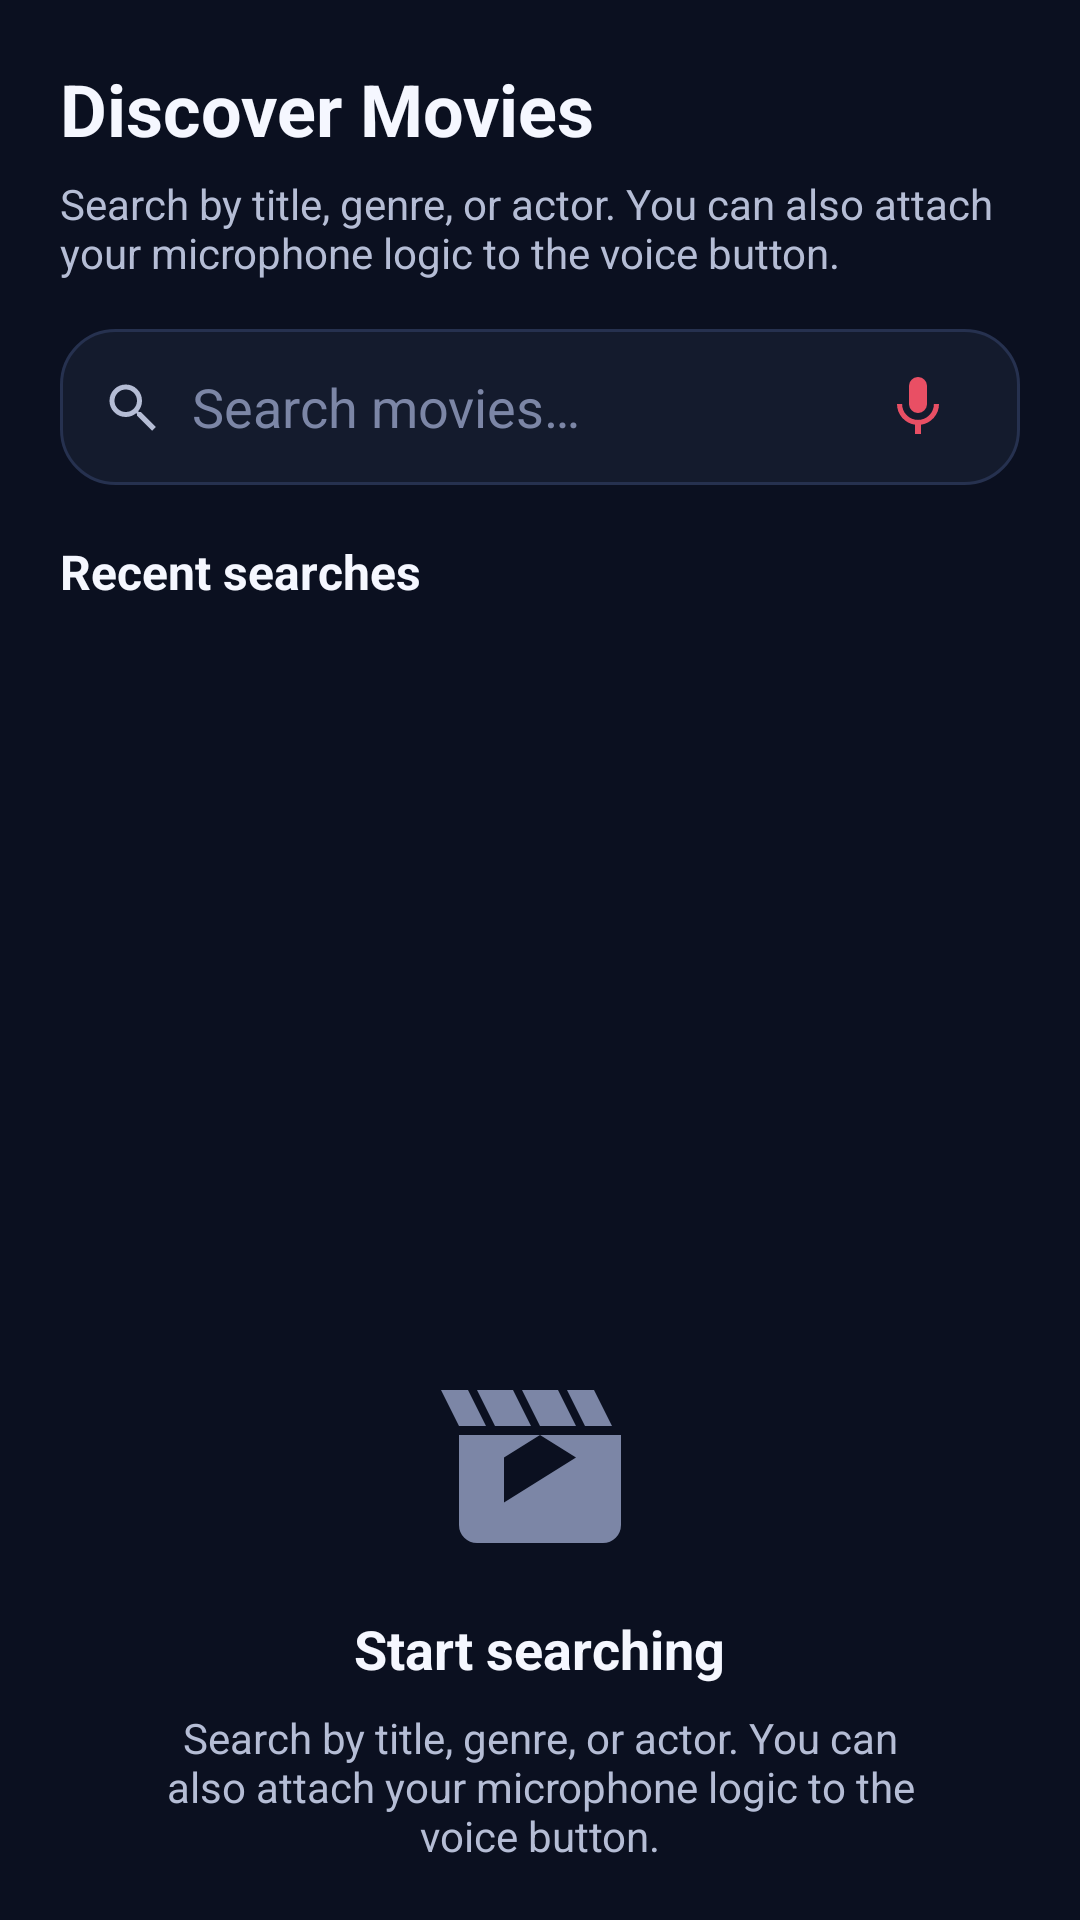

Where icons sit on this 1080px×1920px app screen, as (x1, y1, x2, y2):
movie: (441, 1390, 621, 1543)
